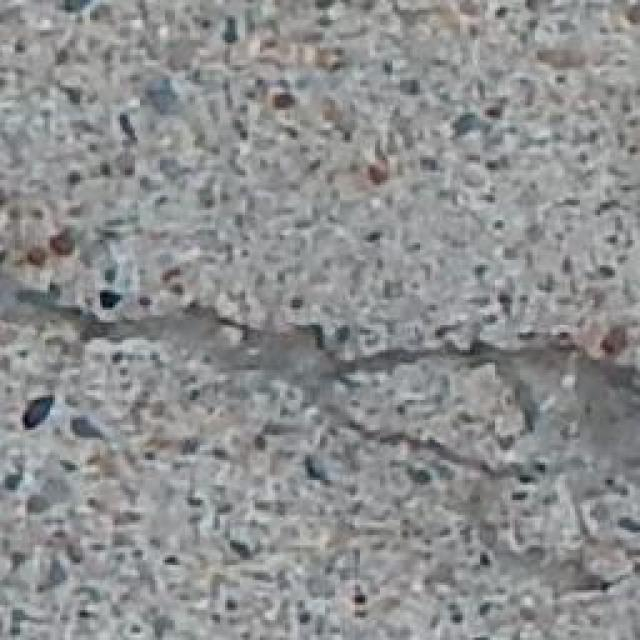concrete-crack: (1, 274, 640, 497), (546, 460, 638, 619)
